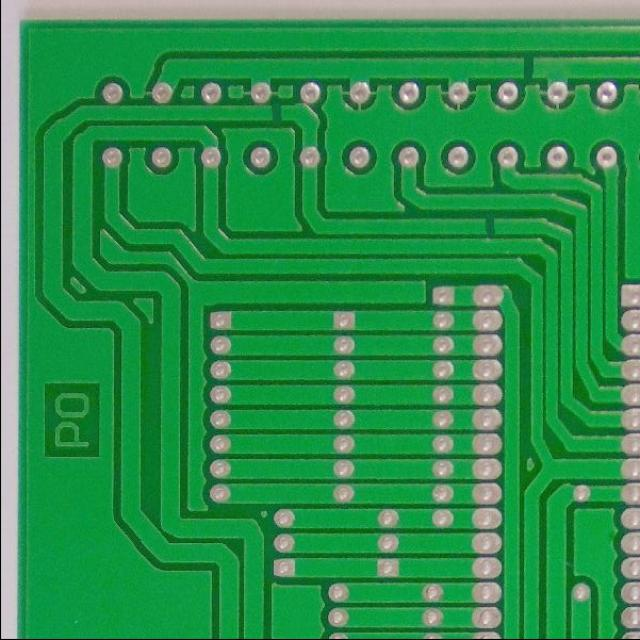Open_Circuit: (511, 40, 544, 92), (474, 205, 504, 248), (262, 94, 290, 131)
